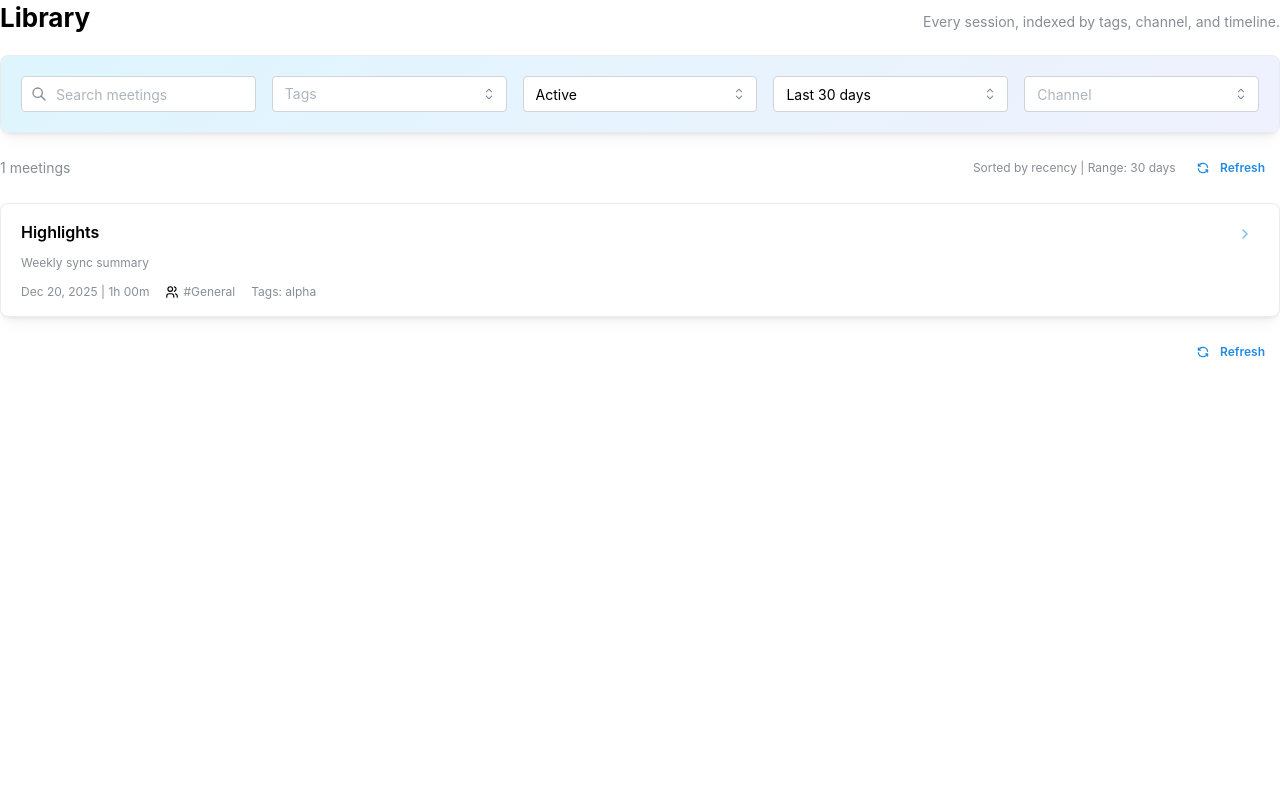
Test: Library page › renders meeting details for a selected row
The image size is (1280, 800).
Click the element with test id "library-meeting-row": coordinates (60, 232) [1,204,1279,316]
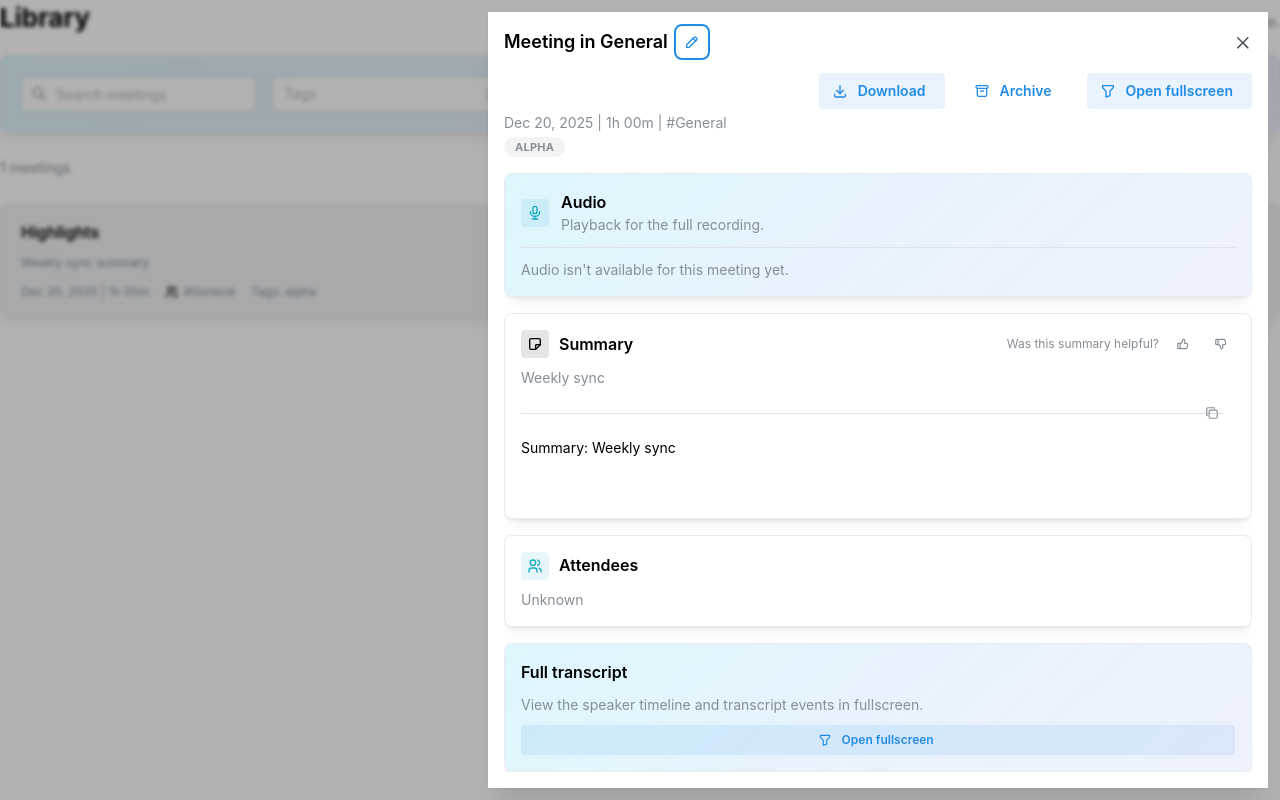
Now the text "Audio isn't available for this meeting yet." is shown, box [521,261,789,278]
Now the text "Full transcript" is shown, box [521,662,627,682]
Now the text "Was this summary helpful?" is shown, box [1007,336,1159,353]
